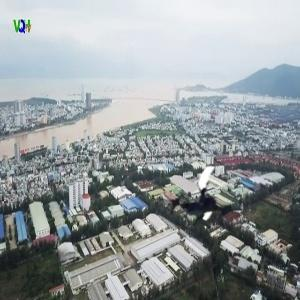drone: (164, 160, 246, 242)
